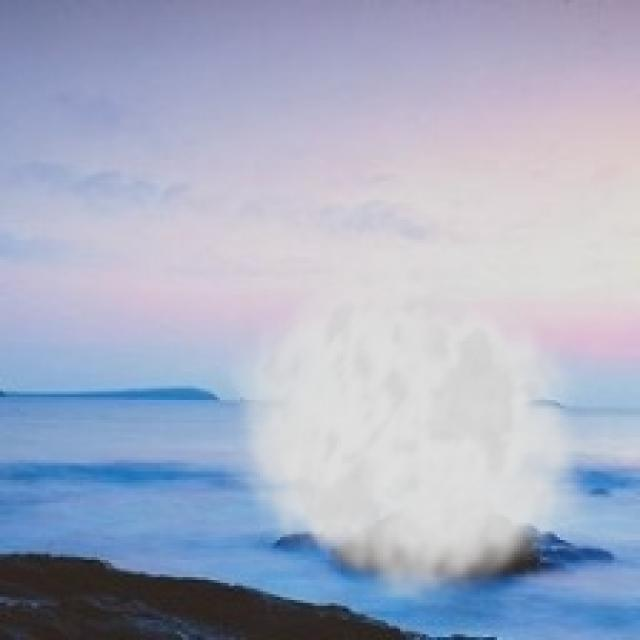smoke: (223, 246, 597, 614)
